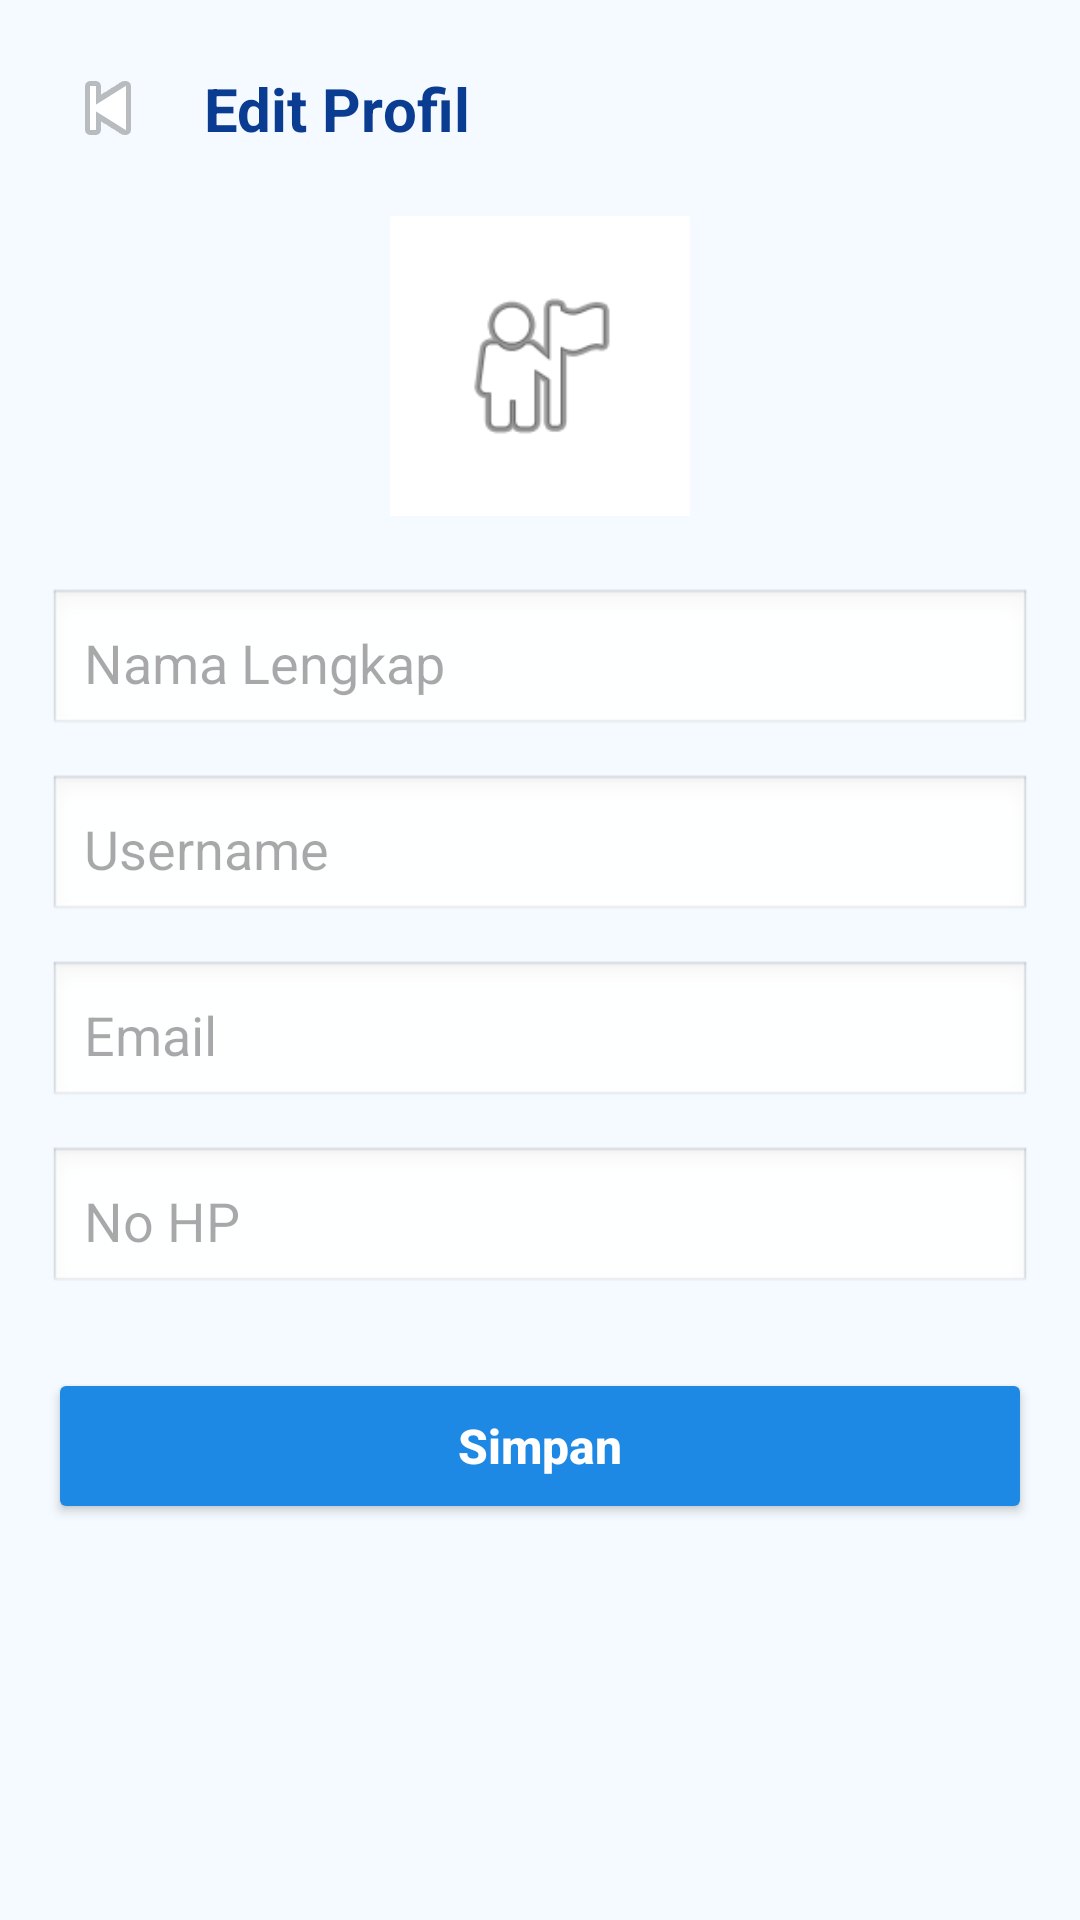

Where to tap for icons on this 1080x1920 app screen, as (x,y):
Kembali: (108,108)
